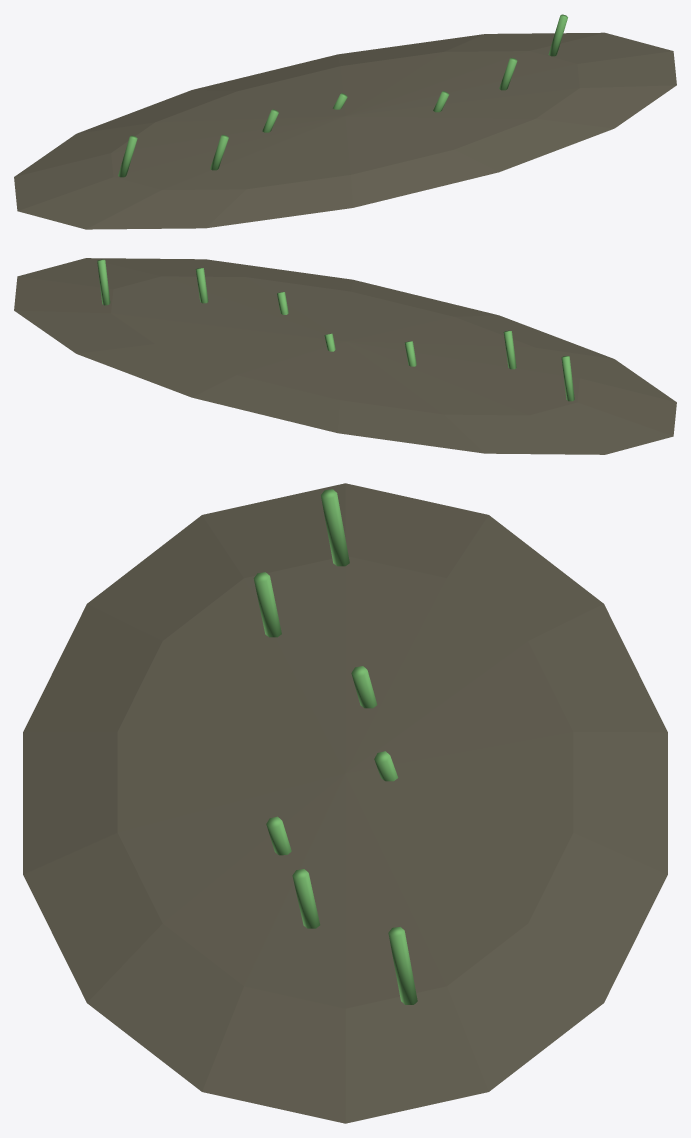
File: delta_island_a.obj
3 renders of one model, top to bottom at view 1: azimuth 30°, elevation 25°; view 2: azimuth 150°, elevation 25°; view 3: azimuth 270°, elevation 25°, orthographic. The views are drawn at different scales.
Parts seen in each view (by area): view 1: delta_island_a; view 2: delta_island_a; view 3: delta_island_a.
Boxes of the visible parts, box(x1,y1,x2,y2) form: delta_island_a: box(14, 14, 676, 229); delta_island_a: box(14, 258, 676, 454); delta_island_a: box(23, 483, 667, 1123).
Size of the model in its own units: 11 by 1.05 by 4.68.
